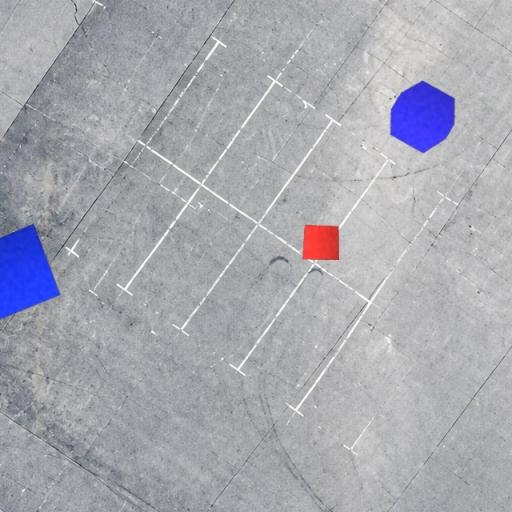BLUE_SQUARE: (0, 224, 62, 324)
RED_SQUARE: (302, 225, 340, 260)
